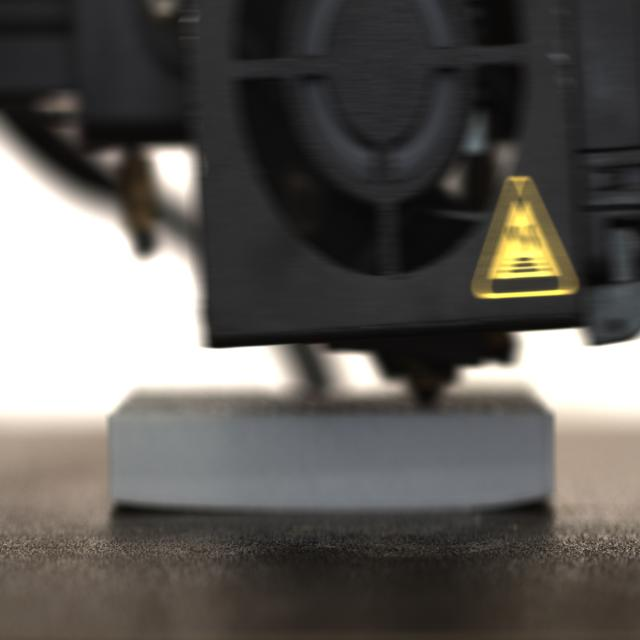Warping: (466, 487, 554, 521)
